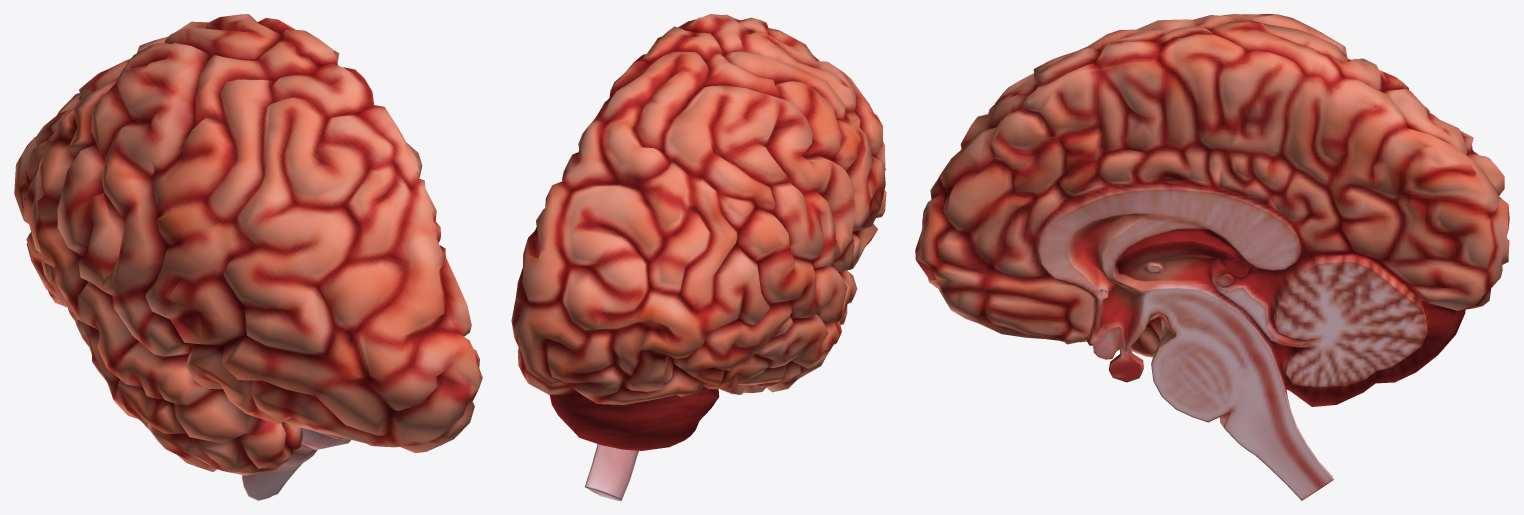
Rendered from brain.glb.
The picture shows the model from 3 angles, left to right: view 1: azimuth 30°, elevation 25°; view 2: azimuth 150°, elevation 25°; view 3: azimuth 270°, elevation 25°; orthographic projection. The views are drawn at different scales.
Parts seen in each view (by area): view 1: Brain; view 2: Brain; view 3: Brain.
Part boxes in pixels (x1=…): Brain: x1=14, y1=14, x2=482, y2=500; Brain: x1=511, y1=14, x2=886, y2=500; Brain: x1=915, y1=14, x2=1509, y2=500.
Size of the model in its own units: 0.0021 by 0.00421 by 0.00501.
1 material, 1 textured.
